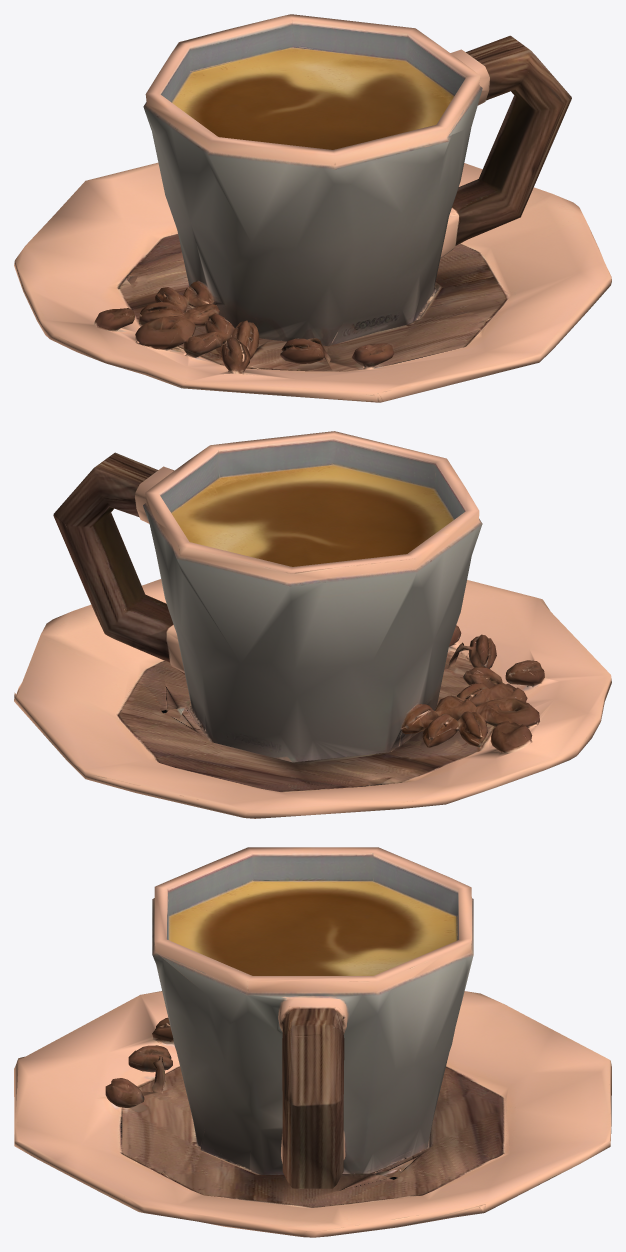
Rendered from coffee_cup.glb.
The picture shows the model from 3 angles, top to bottom: view 1: azimuth 30°, elevation 25°; view 2: azimuth 150°, elevation 25°; view 3: azimuth 270°, elevation 25°; orthographic projection.
Parts seen in each view (by area): view 1: Mesh1.001; view 2: Mesh1.001; view 3: Mesh1.001.
Part boxes in pixels (bbox=[...]): Mesh1.001: bbox=[14, 14, 611, 402]; Mesh1.001: bbox=[14, 431, 611, 818]; Mesh1.001: bbox=[14, 847, 611, 1237].
Size of the model in its own units: 1.91 by 0.7831 by 1.85.
1 material, 1 textured.
